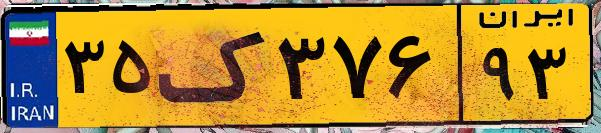3: (270, 28, 330, 110), (57, 26, 110, 100), (525, 38, 570, 115)
5: (110, 28, 158, 98)
6: (385, 28, 445, 110)
7: (330, 28, 385, 110)
9: (475, 38, 525, 113)
ک: (158, 12, 270, 120)
